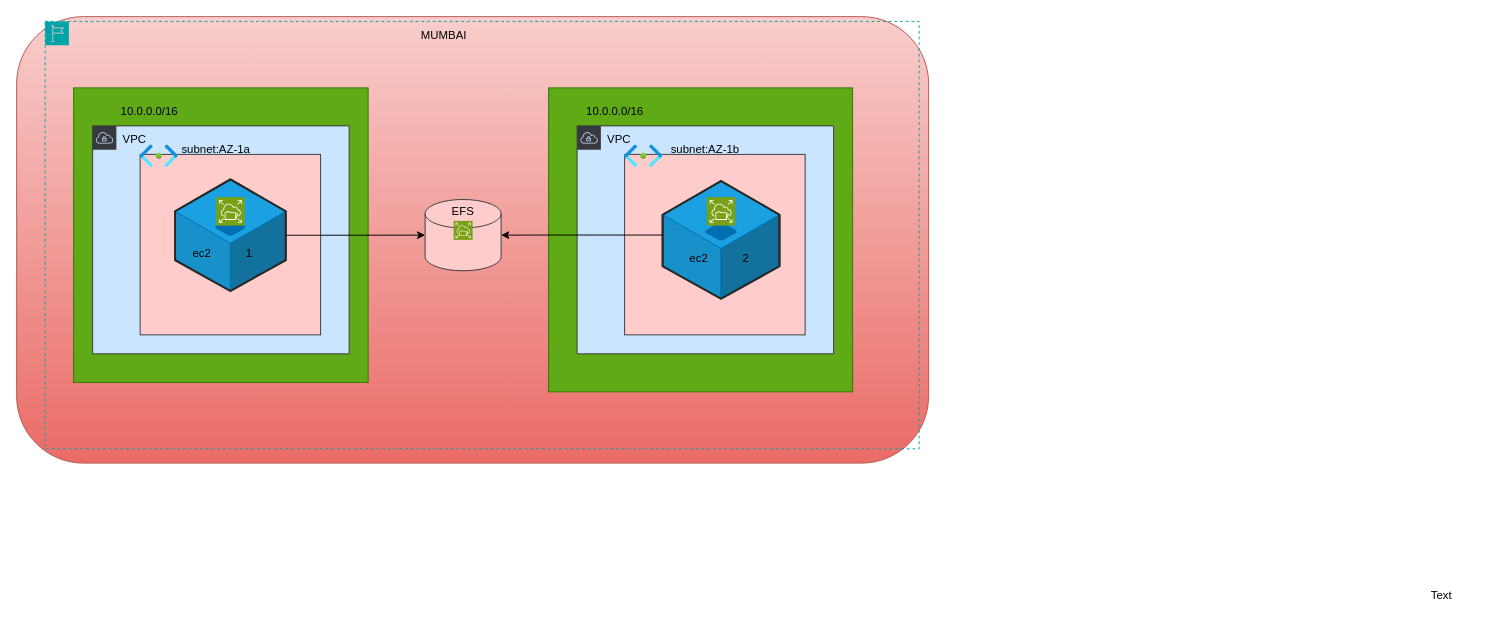
The diagram is 1487 pixels wide and 627 high, and some of its shapes have lost their labels. The box of each missing label's shape, as (x1, y1, x2, y2) in pixels:
FILE_1: (424, 199, 501, 271)
Region: (44, 20, 919, 449)
